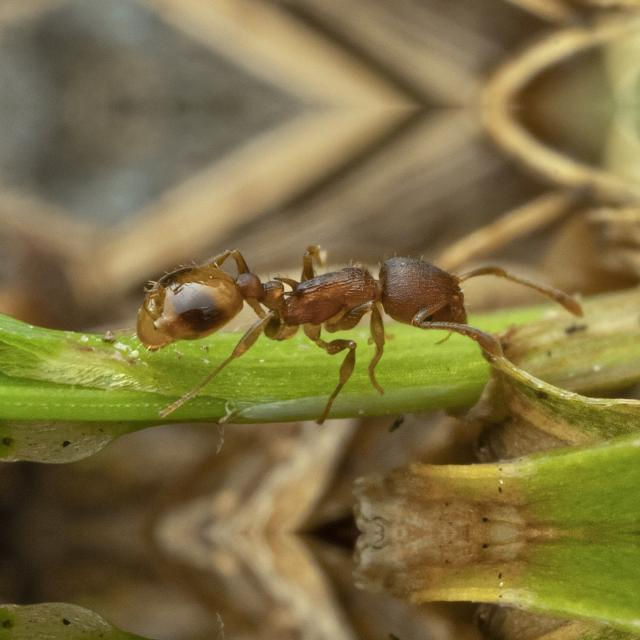Temnothorax: (93, 211, 554, 379)
